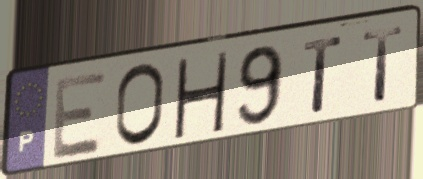9: (234, 42, 288, 130)
E: (51, 67, 109, 163)
H: (170, 50, 231, 139)
O: (112, 61, 167, 150)
T: (360, 22, 406, 105), (301, 33, 344, 115)
